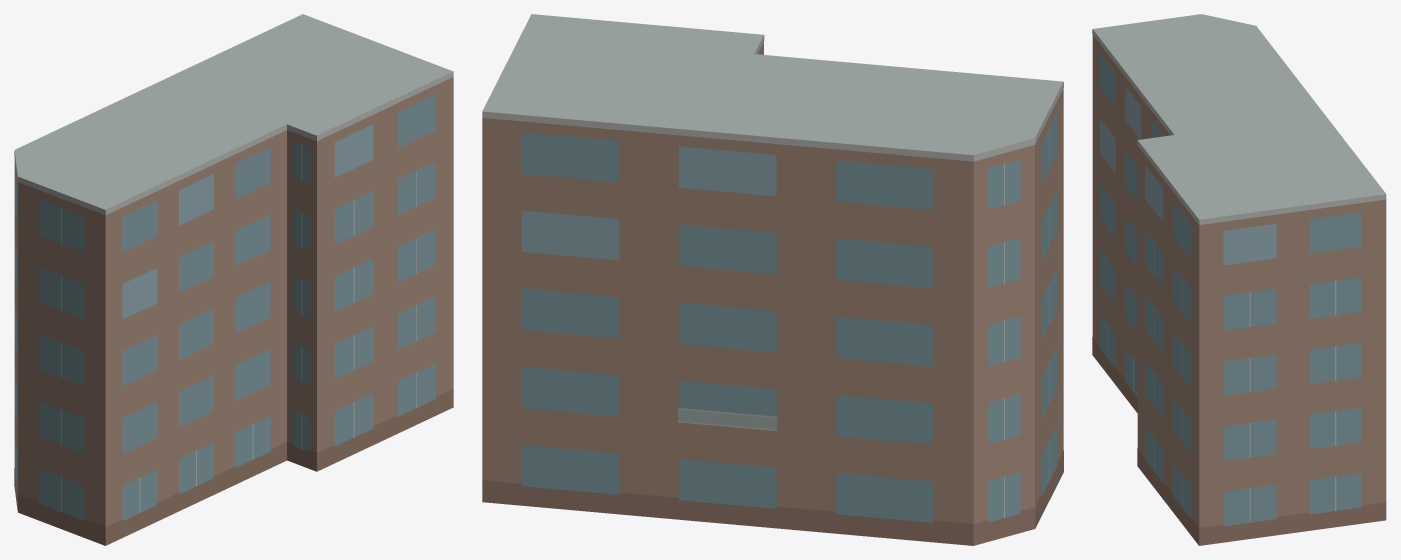
The model's file is survey-upis-32621333.glb.
3 renders of one model, left to right at view 1: azimuth 30°, elevation 25°; view 2: azimuth 150°, elevation 25°; view 3: azimuth 270°, elevation 25°, orthographic. The views are drawn at different scales.
Visible parts, largest first — view 1: survey-upis-32621333.tmp; view 2: survey-upis-32621333.tmp; view 3: survey-upis-32621333.tmp.
Boxes of the visible parts, x1,y1,x2,y2 form: survey-upis-32621333.tmp: (14, 14, 453, 545); survey-upis-32621333.tmp: (482, 14, 1063, 545); survey-upis-32621333.tmp: (1092, 14, 1386, 545).
Size of the model in its own units: 20.1 by 14.85 by 12.14.
